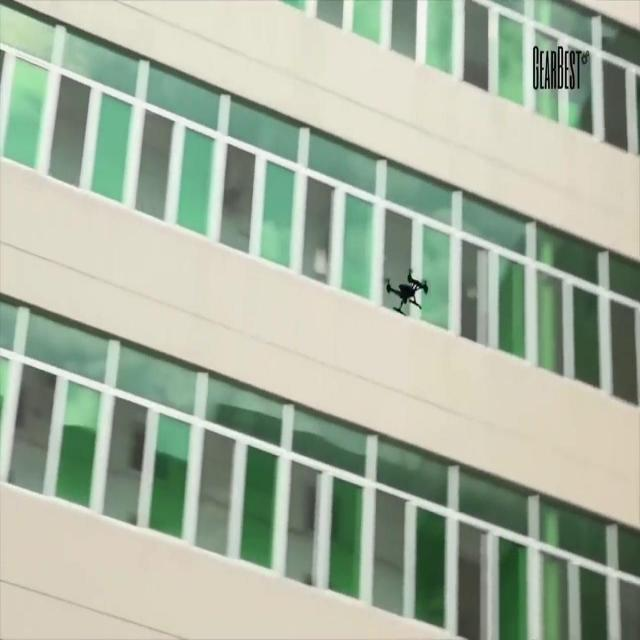UAV: (386, 268, 428, 316)
